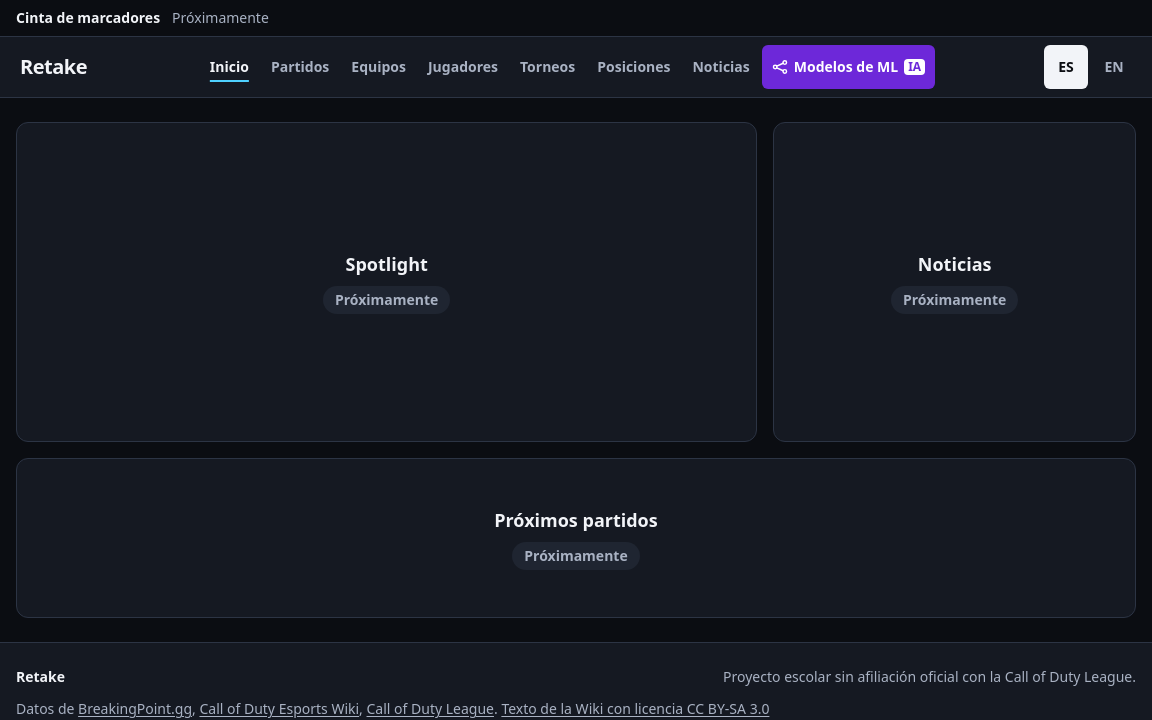
it: menú en fila (RF-6 a RF-10, RF-14, RF-24, RF-25, RF-80) › pulsar una entrada lleva a su sección
Click the link "Equipos".
click(379, 66)  # box [351,57,406,76]
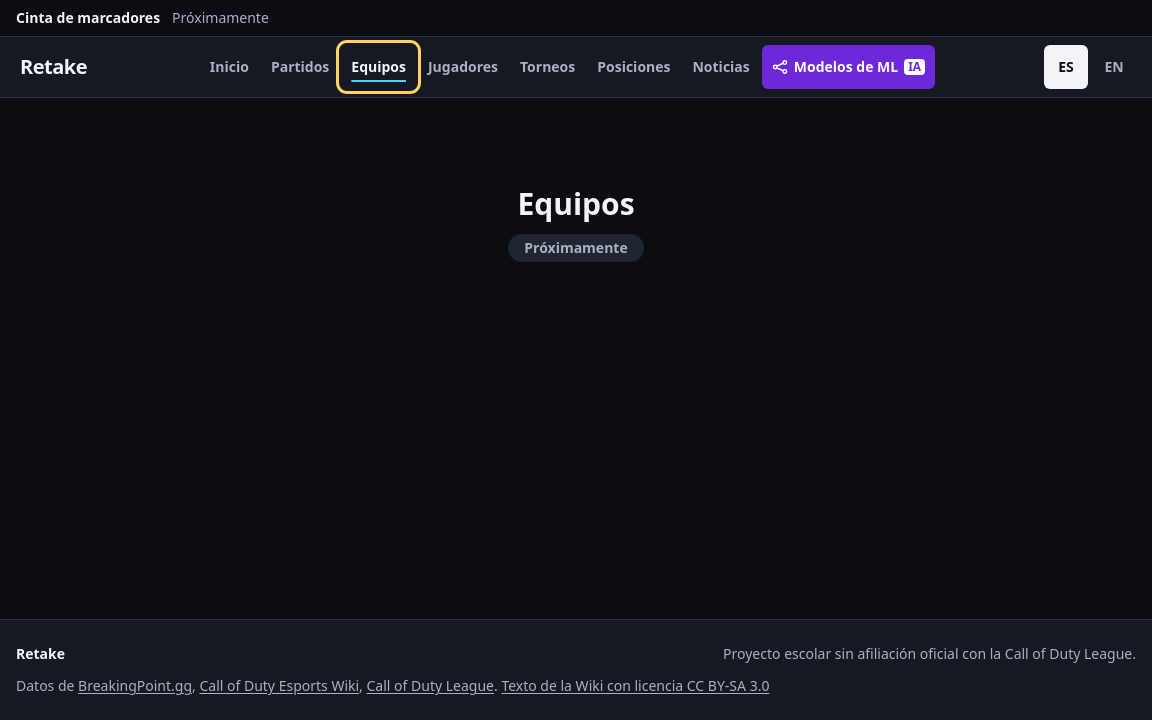
expect the heading "Equipos" is shown: met, box [517,186,634,222]
